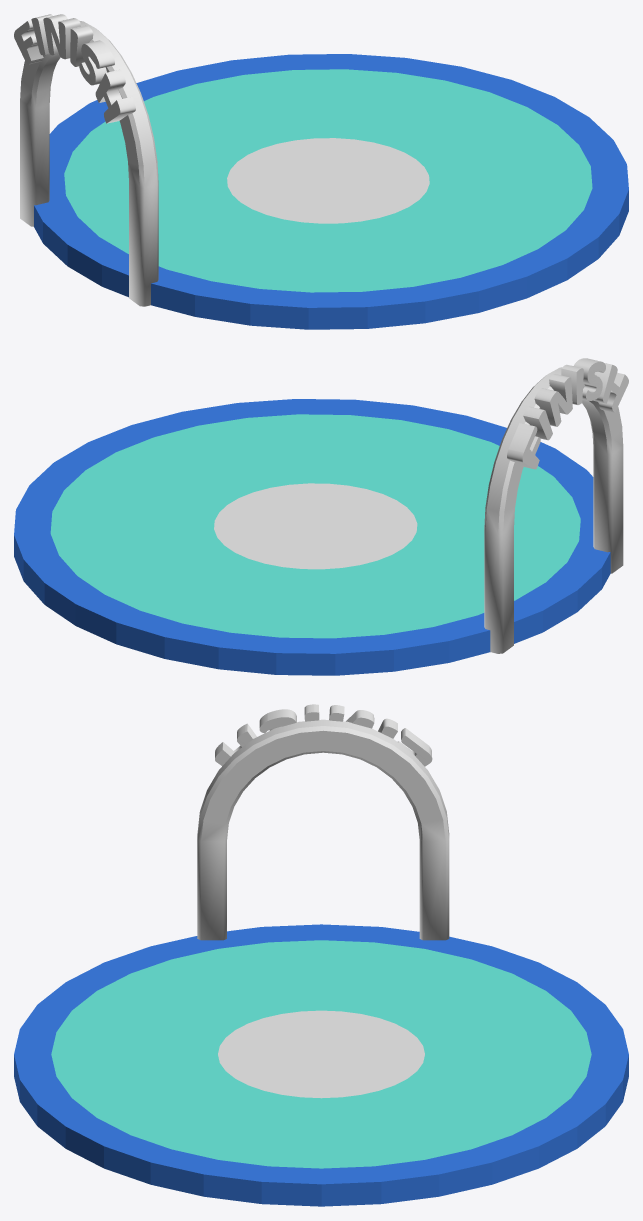
The model's file is FinishArea.fbx.
3 renders of one model, top to bottom at view 1: azimuth 30°, elevation 25°; view 2: azimuth 150°, elevation 25°; view 3: azimuth 270°, elevation 25°, orthographic. The views are drawn at different scales.
Visible parts, largest first — view 1: Circle, object1, Text.001; view 2: Circle, object1, Text.001; view 3: Circle, object1, Text.001.
Part boxes in pixels (bbox=[...]): Circle: bbox=[34, 54, 628, 329]; object1: bbox=[20, 20, 158, 306]; Text.001: bbox=[14, 14, 135, 123]; Circle: bbox=[14, 399, 610, 675]; object1: bbox=[484, 367, 623, 653]; Text.001: bbox=[507, 358, 628, 469]; Circle: bbox=[14, 924, 628, 1206]; object1: bbox=[197, 719, 449, 940]; Text.001: bbox=[215, 704, 432, 766].
Bounding box in the file's own units: 500 × 218 × 500.
